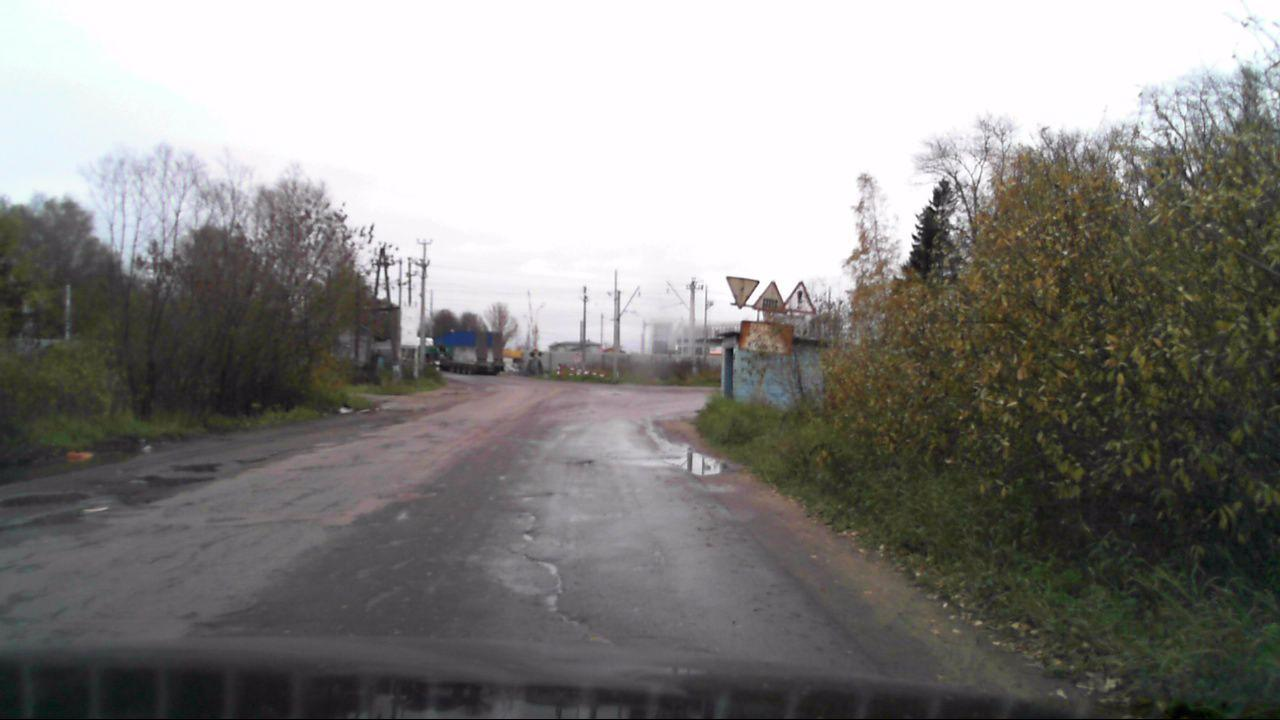1_1: (752, 279, 787, 315)
1_33: (782, 281, 816, 315)
